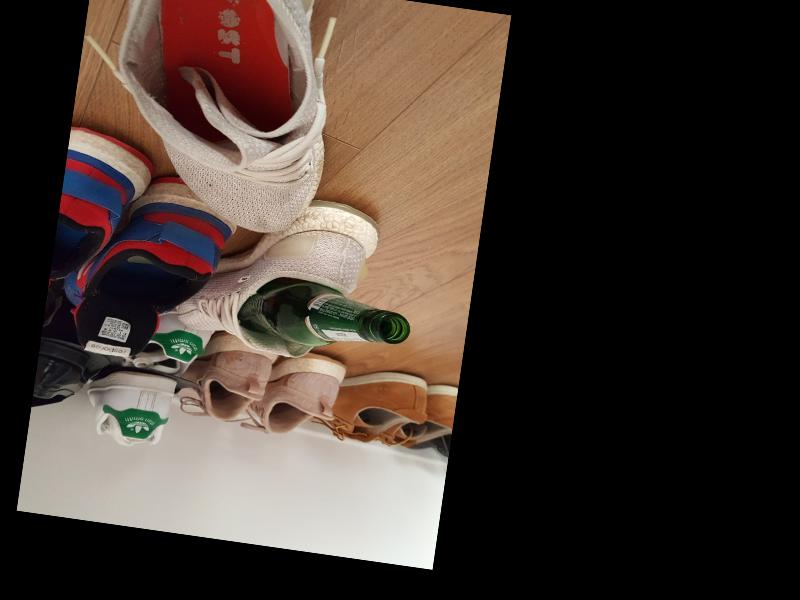Beer: (235, 272, 414, 358)
